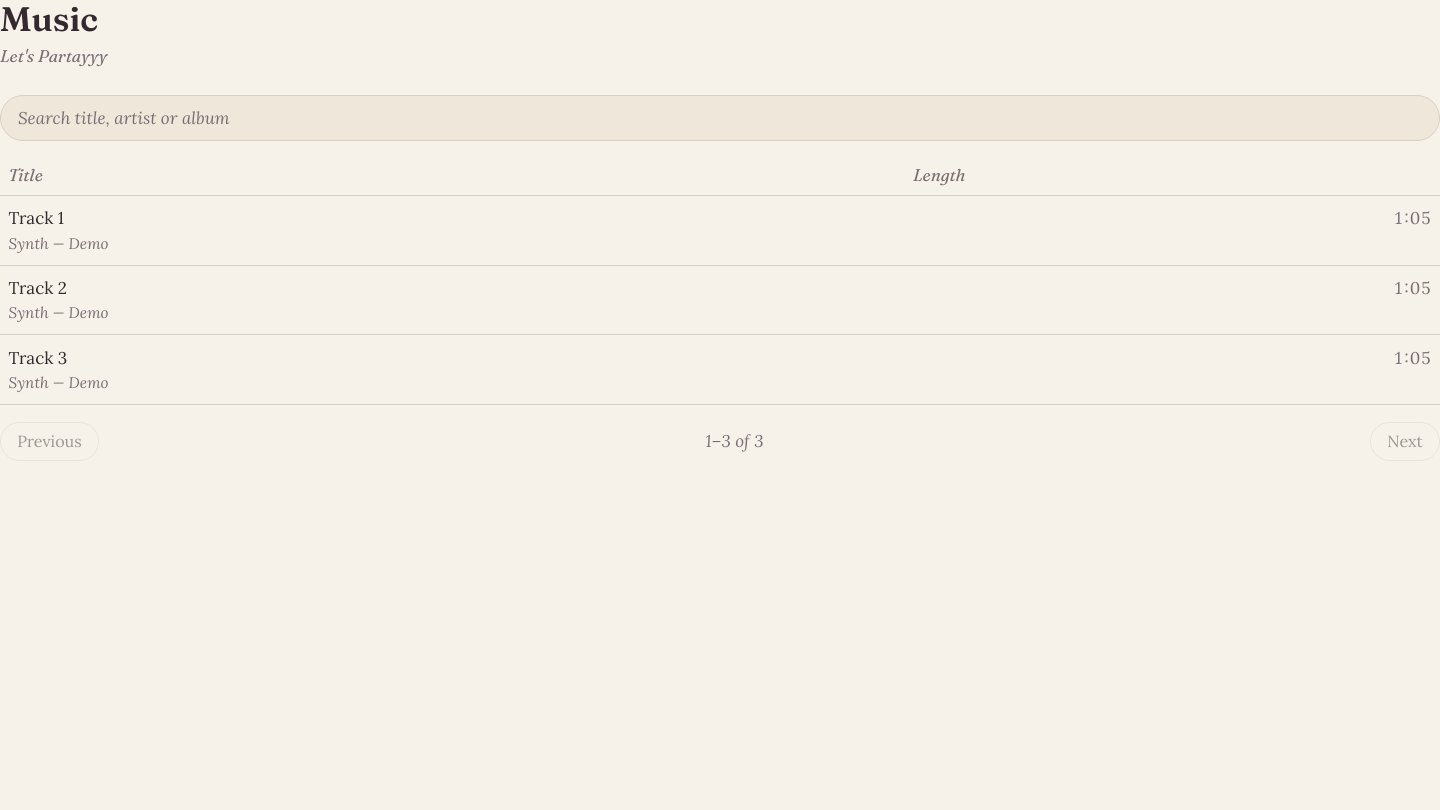
Test: clicking a row plays it
The image size is (1440, 810).
What coordinates should you click on to do the following:
click the button "Track 2"
I would click on:
 (38, 288)
Its box is [8, 275, 67, 301].
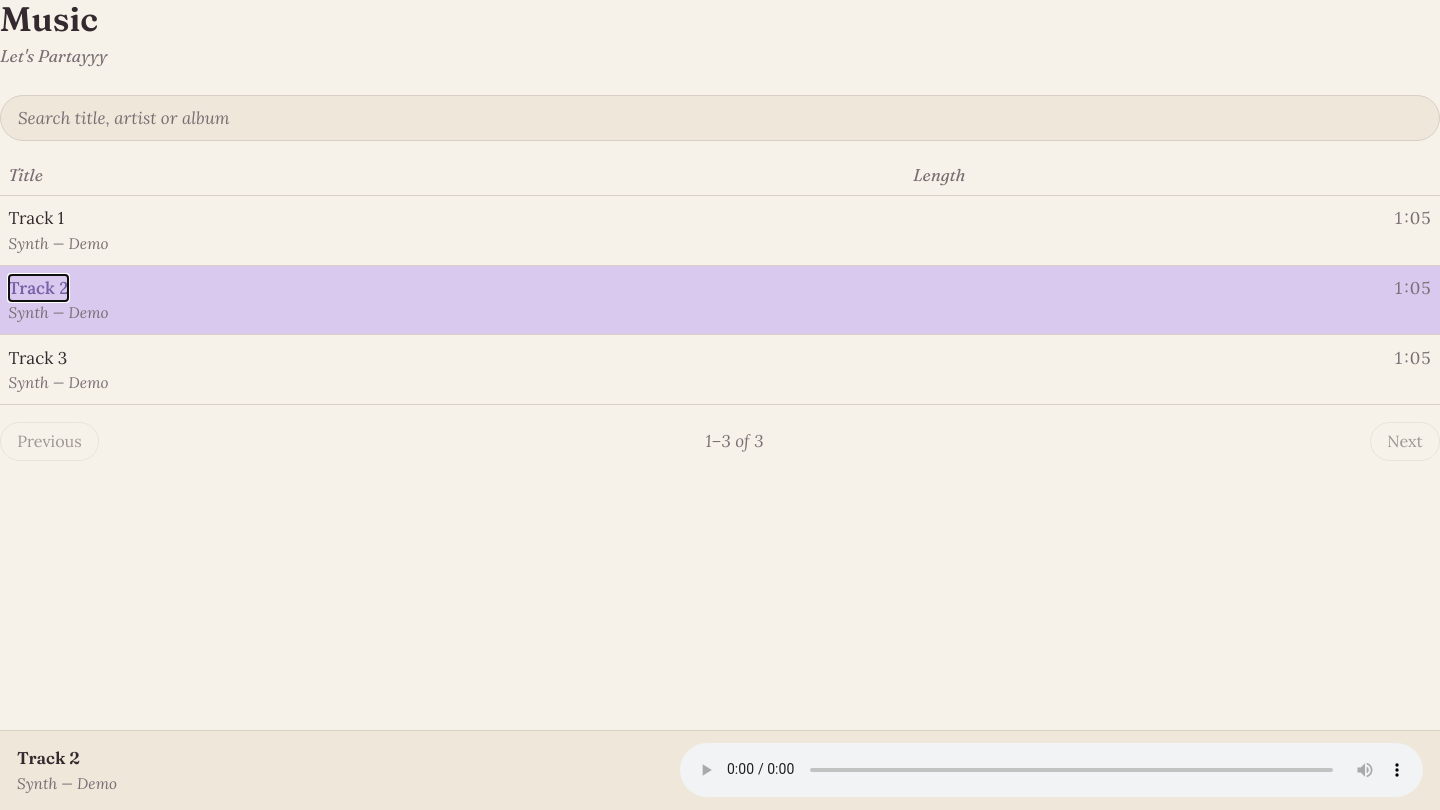
Result: the text "Track 2" is shown at [17, 747, 80, 768]
